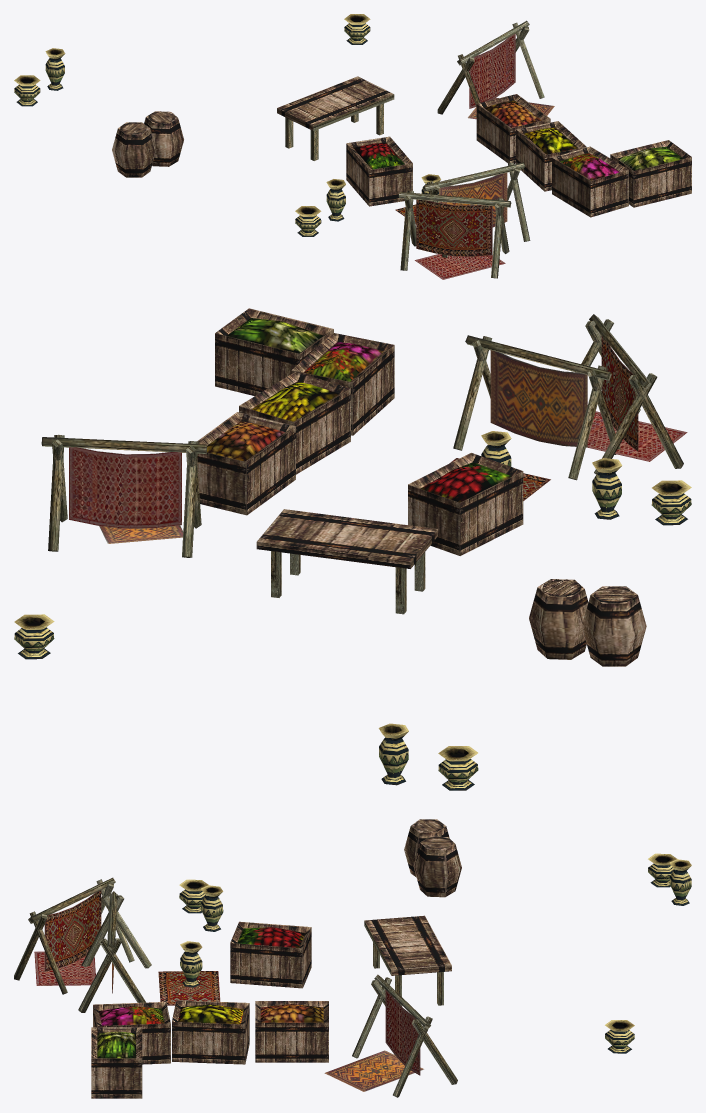
The model's file is kart_market_a_old.dae.
3 views of the same model, one above another, from view 1: azimuth 30°, elevation 25°; view 2: azimuth 150°, elevation 25°; view 3: azimuth 270°, elevation 25° (orthographic). The views are drawn at different scales.
Parts seen in each view (by area): view 1: Object1018-Pivot; view 2: Object1018-Pivot; view 3: Object1018-Pivot.
Part boxes in pixels (<box>): Object1018-Pivot: <box>14,14,691,279</box>; Object1018-Pivot: <box>14,308,691,790</box>; Object1018-Pivot: <box>14,819,691,1098</box>.
Size of the model in its own units: 19.01 by 24.18 by 2.95.
